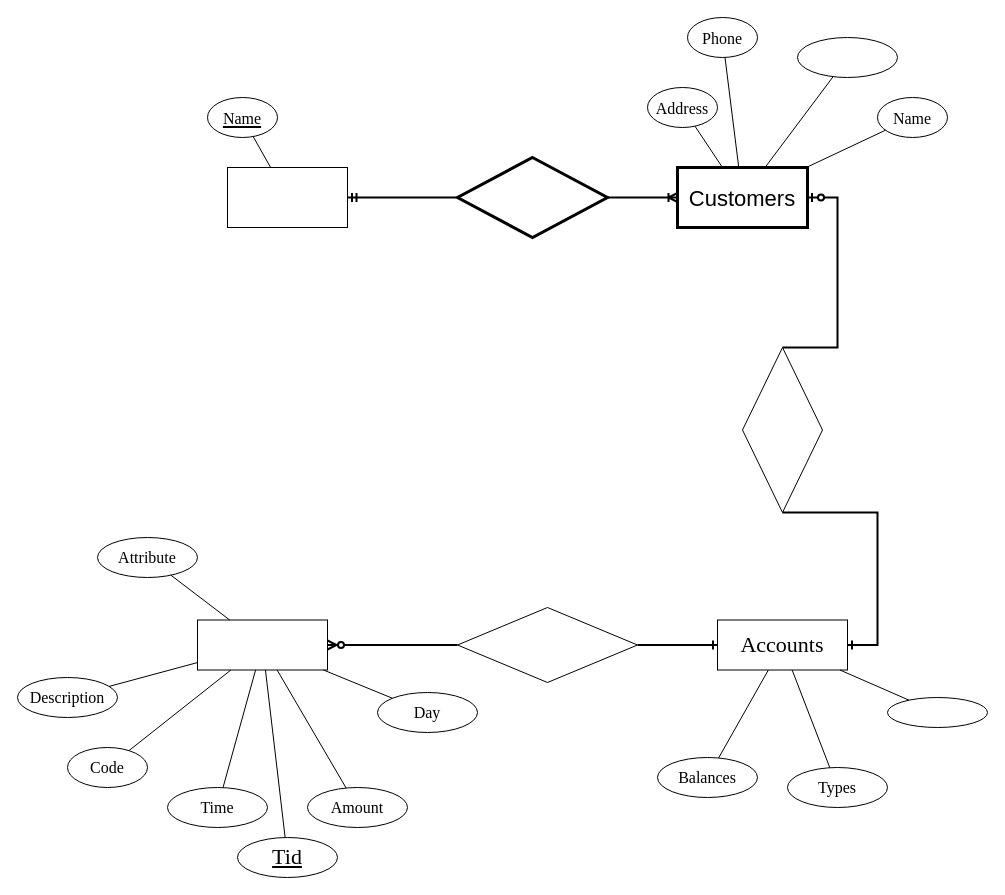
This 1005x895 diagram has some shape labels left out. The centre of each missing label's shape, as x and y in pixels:
Bank: the point at 287,197
Customer_id: the point at 847,57
Make: the point at 547,644
Numbers: the point at 937,712
Own: the point at 782,429
Register: the point at 532,197
Transactions: the point at 262,644
